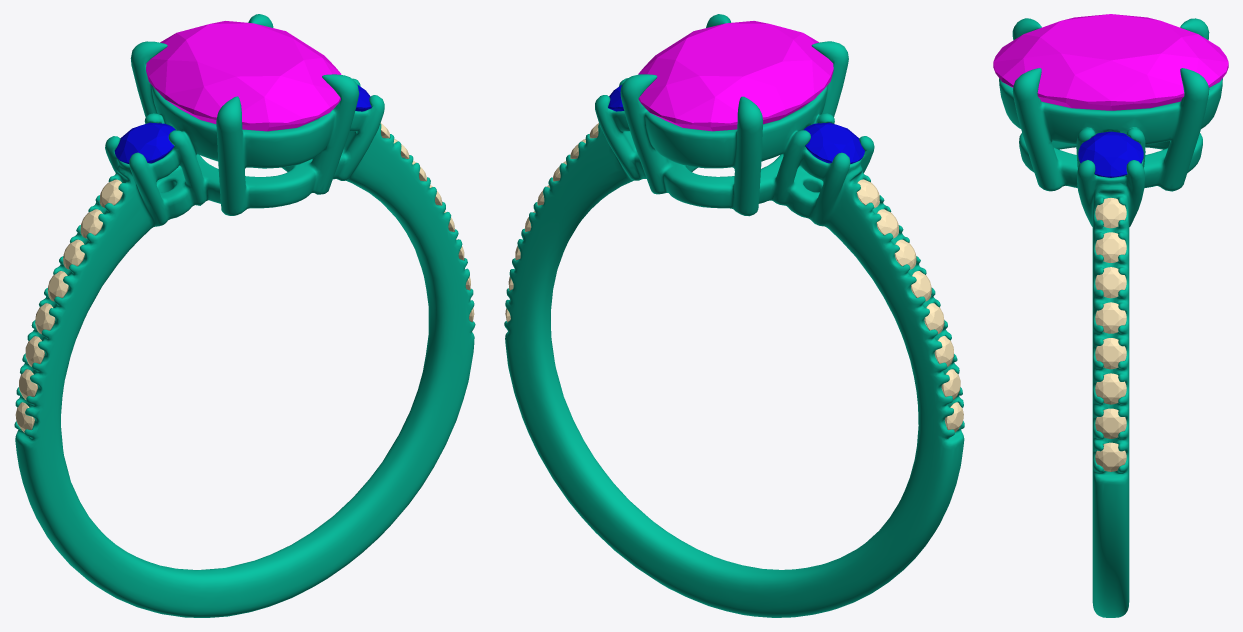
The model's file is BE1D1602_OV_200ct_RENDER.glb.
3 views of the same model, side by side, from view 1: azimuth 30°, elevation 25°; view 2: azimuth 150°, elevation 25°; view 3: azimuth 270°, elevation 25° (orthographic).
Visible parts, largest first — view 1: Metal 01, CS_Diamond_Oval, Diamond_Round_side; view 2: Metal 01, CS_Diamond_Oval, Diamond_Round_side; view 3: Metal 01, CS_Diamond_Oval, Diamond_Round_side.001, Diamond_Round_Gem_SH.012, Diamond_Round_Gem_SH.011, Diamond_Round_Gem_SH.013, Diamond_Round_Gem_SH.010, Diamond_Round_Gem_SH.014, Diamond_Round_Gem_SH.015, Diamond_Round_Gem_SH.009, Diamond_Round_Gem_SH.008.
Boxes of the visible parts, left/top/right/bottom form: Metal 01: left=14, top=14, right=475, bottom=617; CS_Diamond_Oval: left=146, top=21, right=341, bottom=131; Diamond_Round_side: left=114, top=122, right=175, bottom=163; Metal 01: left=504, top=14, right=964, bottom=617; CS_Diamond_Oval: left=638, top=21, right=833, bottom=131; Diamond_Round_side: left=804, top=122, right=864, bottom=163; Metal 01: left=999, top=18, right=1222, bottom=617; CS_Diamond_Oval: left=993, top=14, right=1228, bottom=110; Diamond_Round_side.001: left=1078, top=131, right=1143, bottom=177; Diamond_Round_Gem_SH.012: left=1095, top=302, right=1126, bottom=333; Diamond_Round_Gem_SH.011: left=1095, top=338, right=1126, bottom=369; Diamond_Round_Gem_SH.013: left=1095, top=267, right=1126, bottom=298; Diamond_Round_Gem_SH.010: left=1095, top=373, right=1126, bottom=404; Diamond_Round_Gem_SH.014: left=1095, top=232, right=1126, bottom=262; Diamond_Round_Gem_SH.015: left=1095, top=198, right=1126, bottom=228; Diamond_Round_Gem_SH.009: left=1095, top=408, right=1126, bottom=438; Diamond_Round_Gem_SH.008: left=1095, top=442, right=1126, bottom=471.
Bounding box in the file's own units: 19.84 × 23.52 × 9.
